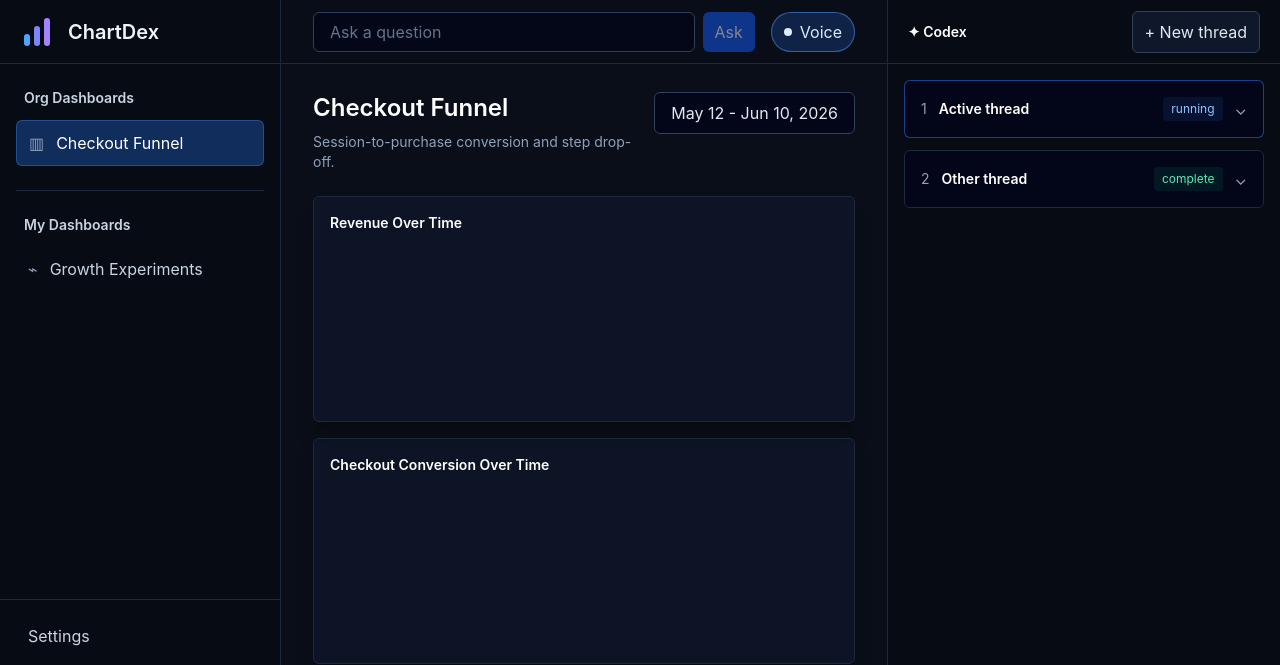
Test: App › auto-scrolls an active Codex thread as its response updates
The width and height of the screenshot is (1280, 665).
Expected: the text "Active thread" is shown, [939,100,1029,117]
Click the button "1 Active thread running ⌄": (984, 108) [905,81,1263,137]
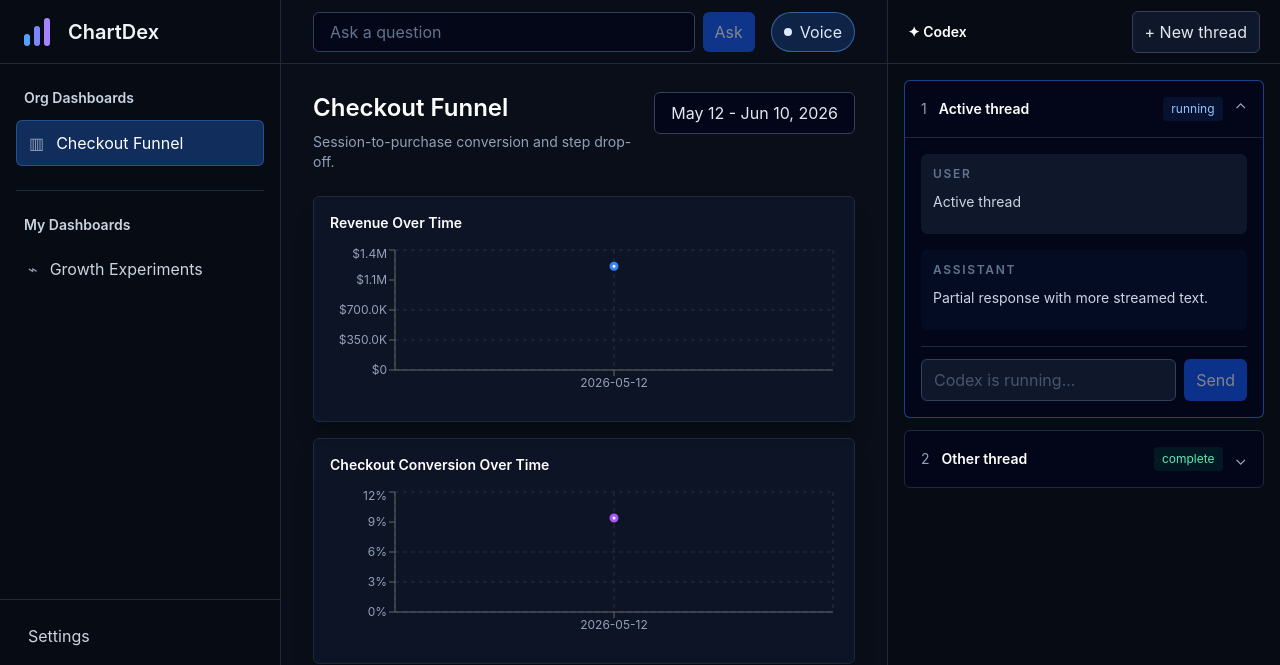
Expected: the text "Partial response." is shown, [933,289,1208,306]
